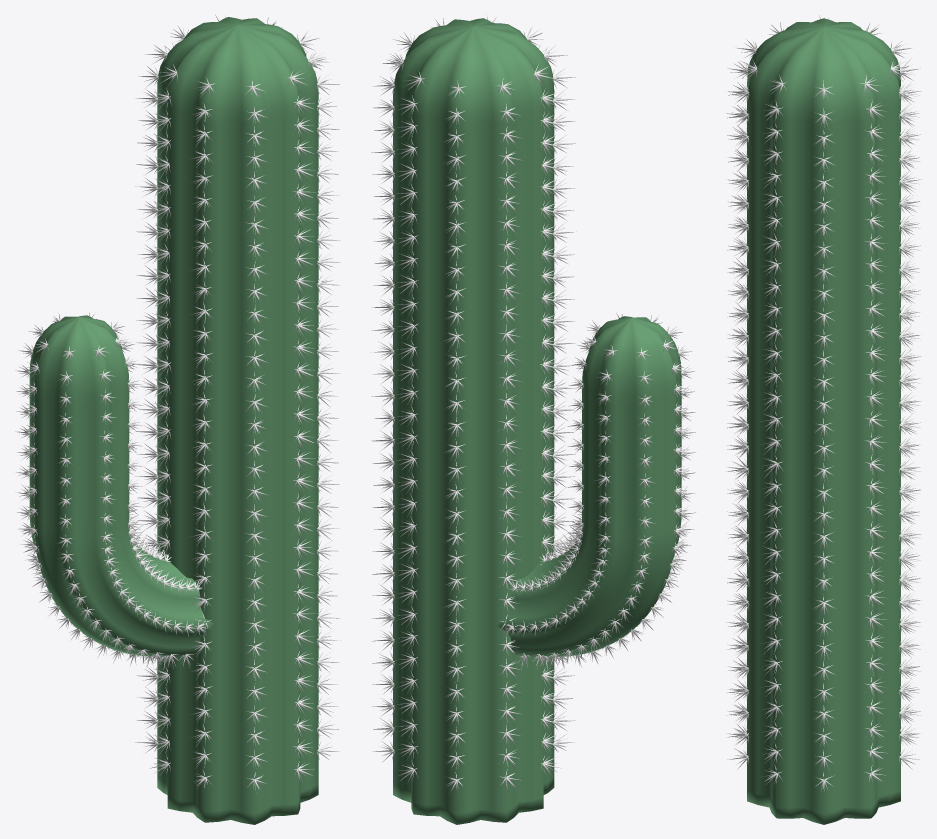
3 renders of one model, left to right at view 1: azimuth 30°, elevation 25°; view 2: azimuth 150°, elevation 25°; view 3: azimuth 270°, elevation 25°, orthographic.
Parts seen in each view (by area): view 1: main_stem, side_arm, stem_spine_clusters, arm_spine_clusters; view 2: main_stem, side_arm, stem_spine_clusters, arm_spine_clusters; view 3: main_stem, stem_spine_clusters.
Part boxes in pixels (x1=…): main_stem: x1=157, y1=17, x2=318, y2=824; side_arm: x1=29, y1=315, x2=215, y2=656; stem_spine_clusters: x1=135, y1=15, x2=340, y2=794; arm_spine_clusters: x1=15, y1=313, x2=207, y2=669; main_stem: x1=393, y1=18, x2=554, y2=824; side_arm: x1=496, y1=316, x2=681, y2=656; stem_spine_clusters: x1=370, y1=14, x2=576, y2=792; arm_spine_clusters: x1=503, y1=313, x2=695, y2=670; main_stem: x1=747, y1=18, x2=900, y2=824; stem_spine_clusters: x1=726, y1=15, x2=921, y2=792.
Size of the model in its own units: 1.05 by 2.5 by 0.587.
